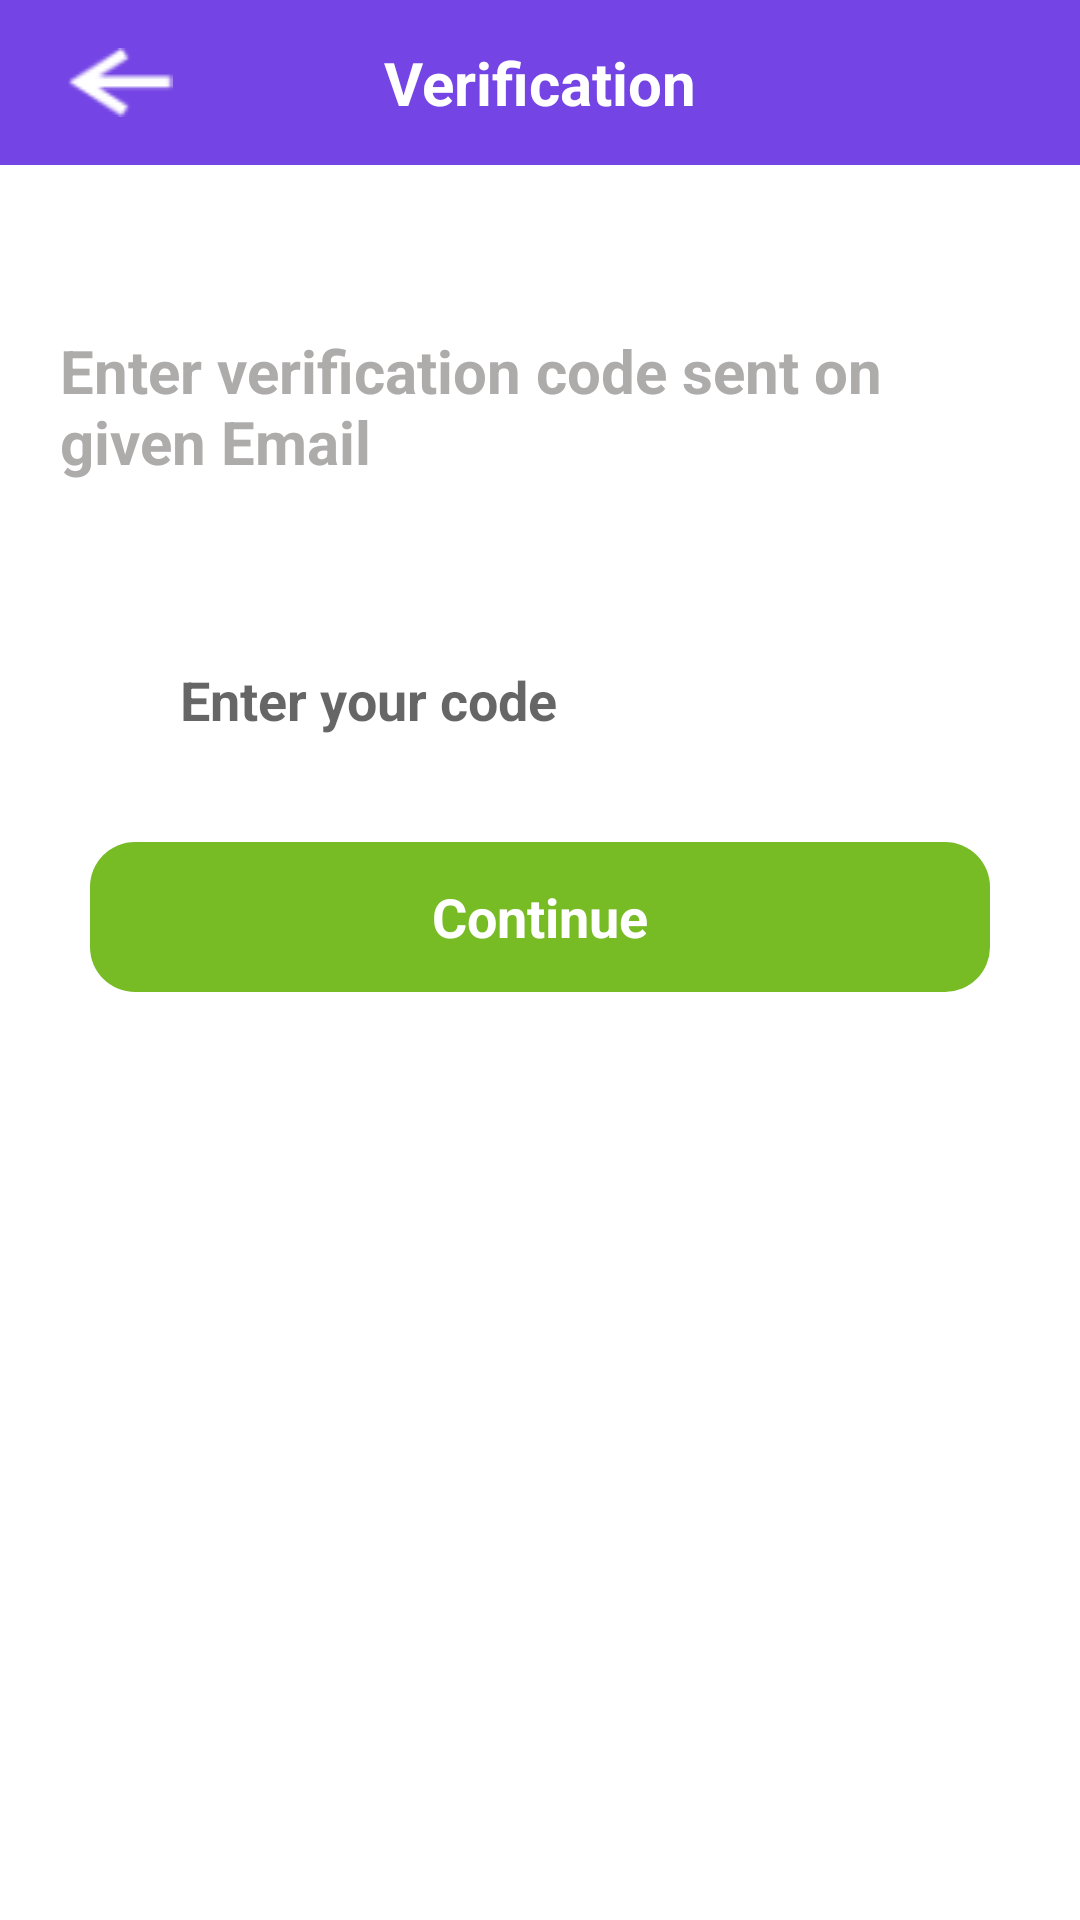

Where icons sit on this 1080px×1920px app screen, as (x1, y1, x2, y2):
back: (69, 48, 173, 117)
